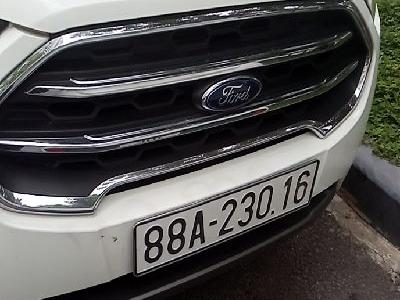car: (134, 159, 320, 278)
